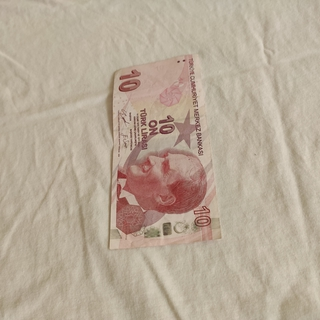10TLFront: (107, 52, 222, 250)
